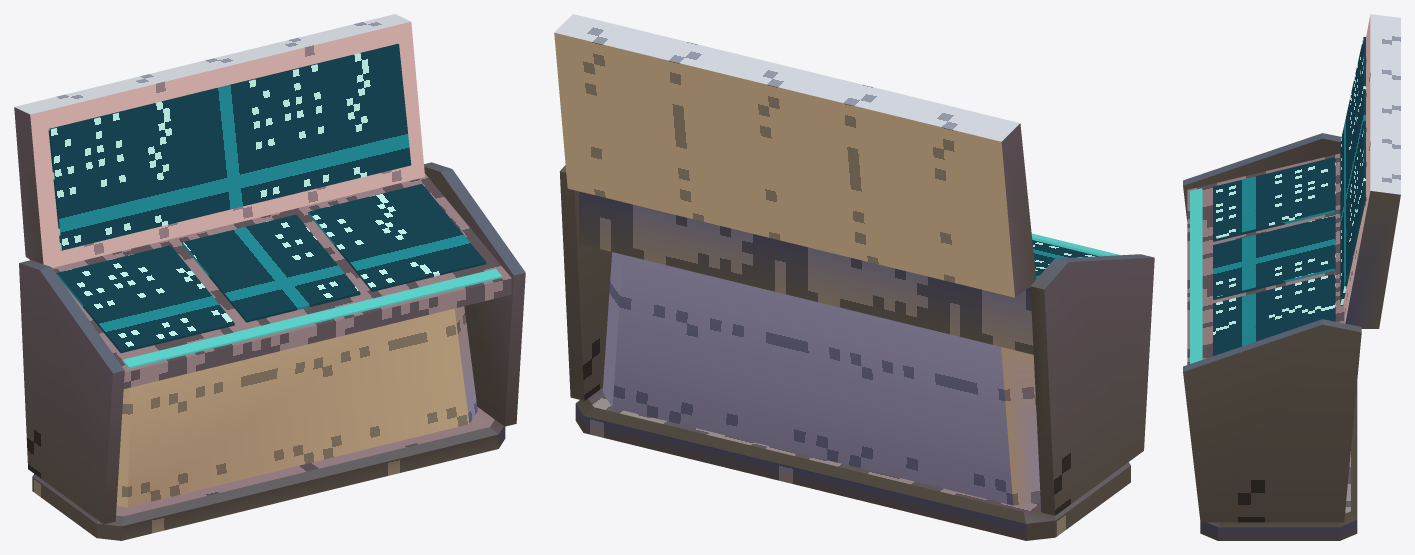
File: tech.console__tall.glb
3 views of the same model, side by side, from view 1: azimuth 30°, elevation 25°; view 2: azimuth 150°, elevation 25°; view 3: azimuth 270°, elevation 25° (orthographic). The views are drawn at different scales.
Visible parts, largest first — view 1: kit_back_screen, kit_body, kit_screens, kit_fins, kit_back, kit_desk, kit_plinth, kit_strip; view 2: kit_back, kit_body, kit_fins, kit_desk, kit_plinth, kit_screens; view 3: kit_fins, kit_screens, kit_back, kit_desk, kit_back_screen, kit_plinth, kit_strip.
Part boxes in pixels (left/top/right/bottom): kit_back_screen: left=48, top=43, right=411, bottom=250; kit_body: left=116, top=306, right=477, bottom=507; kit_screens: left=56, top=184, right=486, bottom=353; kit_fins: left=19, top=162, right=525, bottom=524; kit_back: left=14, top=14, right=424, bottom=267; kit_desk: left=52, top=173, right=511, bottom=388; kit_plinth: left=32, top=407, right=505, bottom=540; kit_strip: left=122, top=268, right=501, bottom=368; kit_back: left=554, top=14, right=1036, bottom=297; kit_body: left=602, top=252, right=1040, bottom=505; kit_fins: left=559, top=165, right=1154, bottom=515; kit_desk: left=579, top=191, right=1033, bottom=354; kit_plinth: left=575, top=387, right=1130, bottom=540; kit_screens: left=1032, top=240, right=1098, bottom=278; kit_fins: left=1183, top=133, right=1361, bottom=522; kit_screens: left=1213, top=157, right=1335, bottom=355; kit_back: left=1344, top=14, right=1400, bottom=328; kit_desk: left=1187, top=153, right=1344, bottom=364; kit_back_screen: left=1340, top=37, right=1365, bottom=305; kit_plinth: left=1200, top=382, right=1357, bottom=540; kit_strip: left=1190, top=188, right=1202, bottom=363.
Bounding box in the file's own units: 2.08 × 1.74 × 1.
6 materials, 6 textured.
